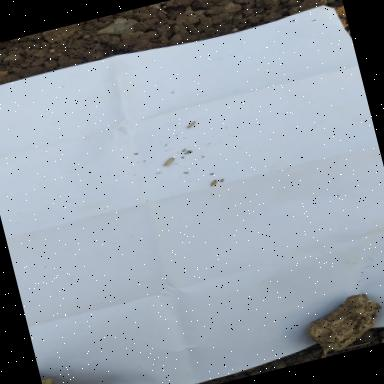pbw: (162, 156, 176, 166)
